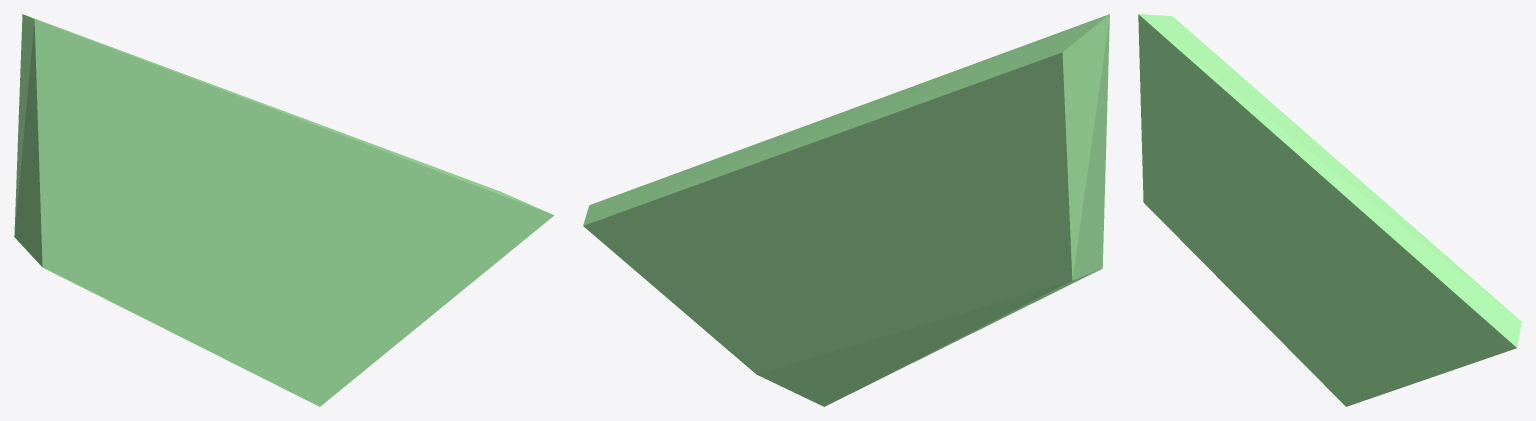
Rendered from linkhou_LR4_R560_link2_respondable_coll_26.dae.
The picture shows the model from 3 angles, left to right: view 1: azimuth 30°, elevation 25°; view 2: azimuth 150°, elevation 25°; view 3: azimuth 330°, elevation 25°; orthographic projection. The views are drawn at different scales.
Parts seen in each view (by area): view 1: Node_00000209DB3AC2E0; view 2: Node_00000209DB3AC2E0; view 3: Node_00000209DB3AC2E0.
Boxes of the visible parts, left/top/right/bottom form: Node_00000209DB3AC2E0: left=14, top=14, right=554, bottom=406; Node_00000209DB3AC2E0: left=583, top=14, right=1109, bottom=406; Node_00000209DB3AC2E0: left=1138, top=14, right=1521, bottom=406.
Bounding box in the file's own units: 0.0691 × 0.0584 × 0.00838.
